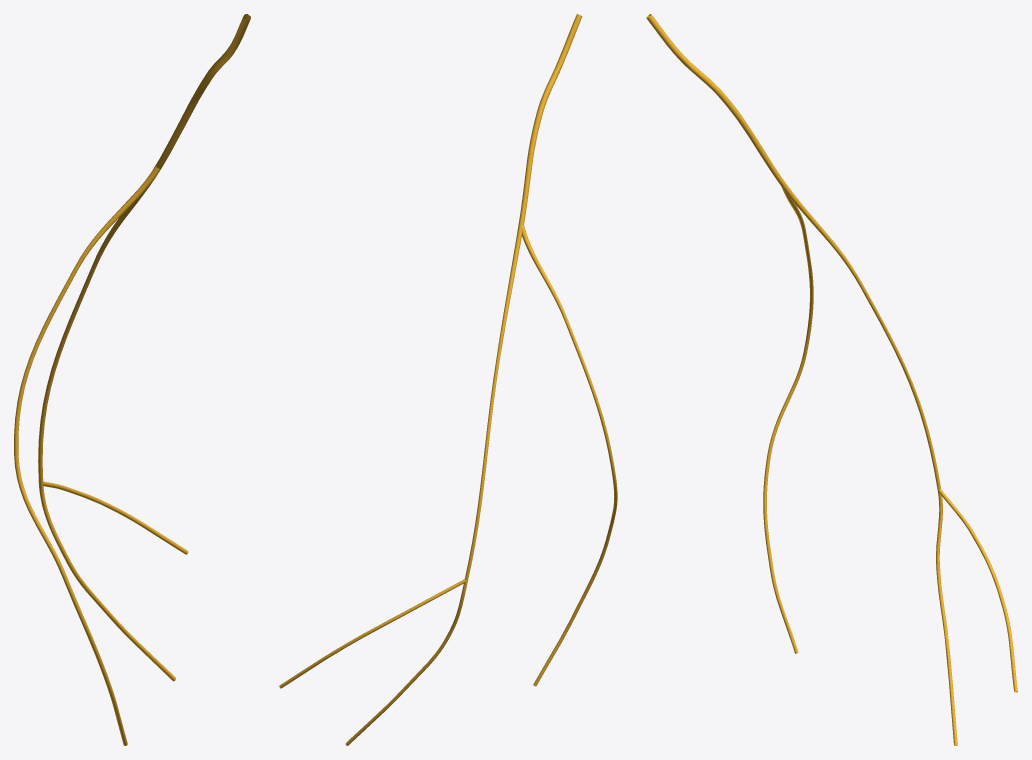
File: nervoso-thoracodorsal-nerve-r.glb
3 renders of one model, left to right at view 1: azimuth 30°, elevation 25°; view 2: azimuth 150°, elevation 25°; view 3: azimuth 270°, elevation 25°, orthographic. The views are drawn at different scales.
Parts seen in each view (by area): view 1: Thoracodorsal nerve.r; view 2: Thoracodorsal nerve.r; view 3: Thoracodorsal nerve.r.
Boxes of the visible parts, x1=… form: Thoracodorsal nerve.r: x1=14, y1=14, x2=250, y2=745; Thoracodorsal nerve.r: x1=279, y1=14, x2=617, y2=745; Thoracodorsal nerve.r: x1=646, y1=14, x2=1017, y2=745.
Bounding box in the file's own units: 0.0612 × 0.161 × 0.079.
